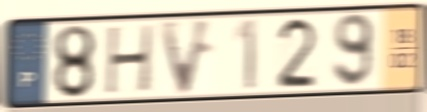1: (232, 16, 258, 95)
2: (274, 14, 320, 93)
8: (52, 22, 97, 101)
9: (330, 10, 376, 92)
H: (102, 21, 158, 98)
V: (156, 16, 218, 99)
